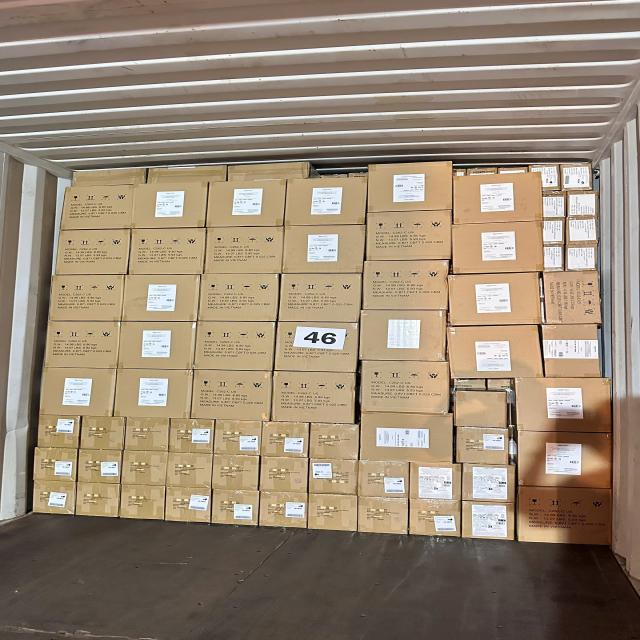Carton: (516, 483, 612, 548), (512, 378, 616, 432), (517, 432, 610, 489), (446, 325, 546, 378), (446, 272, 543, 324), (358, 358, 449, 412), (359, 411, 453, 462), (450, 222, 542, 274), (271, 370, 357, 423), (358, 310, 448, 360), (366, 209, 452, 261), (273, 319, 357, 372), (456, 172, 541, 224), (191, 369, 272, 422), (363, 260, 448, 310), (112, 368, 193, 420), (280, 272, 363, 322), (368, 160, 449, 211), (196, 319, 274, 371), (38, 367, 118, 417), (282, 225, 363, 273), (119, 274, 201, 321), (200, 273, 280, 321), (204, 227, 285, 274), (287, 178, 365, 226), (47, 274, 124, 322), (119, 321, 194, 370), (128, 227, 203, 274), (44, 322, 122, 367), (539, 324, 604, 377), (208, 181, 286, 225), (131, 184, 208, 228), (56, 230, 130, 275), (60, 186, 134, 229), (542, 271, 600, 324), (453, 387, 511, 427), (460, 500, 515, 541), (454, 426, 512, 464), (255, 455, 311, 494), (462, 463, 516, 503), (408, 498, 462, 538), (356, 495, 408, 536), (409, 461, 463, 500), (356, 461, 410, 499), (308, 421, 359, 460), (308, 494, 358, 533), (258, 490, 306, 529), (261, 421, 311, 458), (213, 488, 259, 528), (214, 418, 261, 457), (308, 458, 357, 495), (213, 455, 260, 492), (119, 483, 164, 521), (167, 452, 213, 489), (168, 418, 214, 454), (165, 486, 207, 525), (228, 160, 309, 180), (121, 451, 166, 487), (124, 416, 170, 451), (79, 416, 125, 450), (75, 481, 117, 518), (76, 450, 123, 483), (33, 480, 75, 515), (35, 448, 78, 482), (38, 414, 80, 448), (147, 165, 229, 182), (72, 168, 144, 185)
